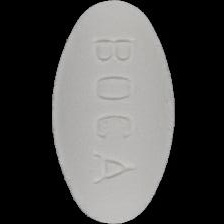64376-604: (0, 0, 224, 224)
